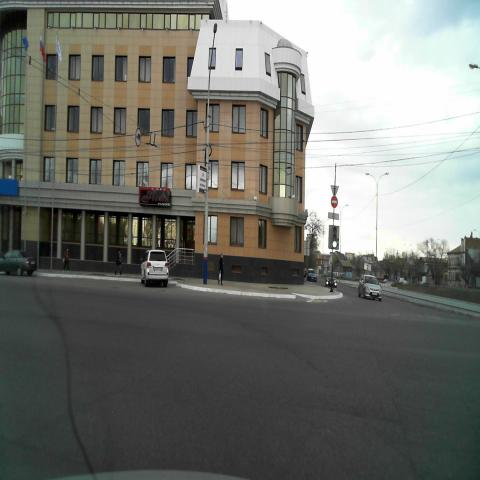3_4_1: (133, 126, 142, 147)
